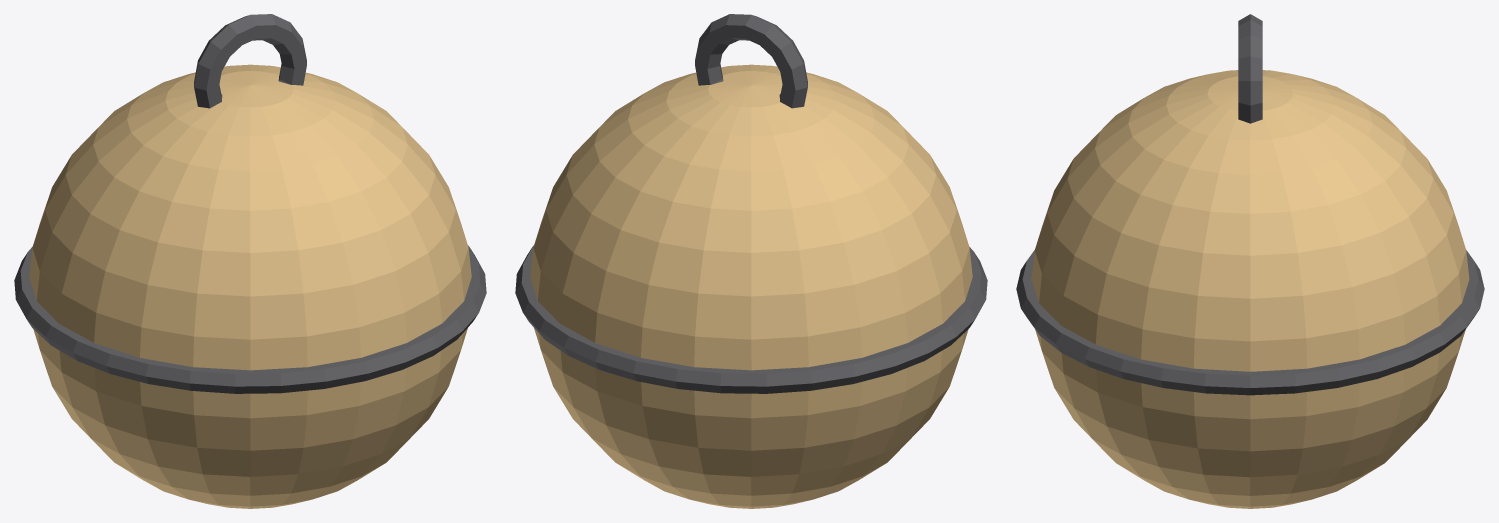
Rendered from Counterweight.fbx.
The picture shows the model from 3 angles, left to right: view 1: azimuth 30°, elevation 25°; view 2: azimuth 150°, elevation 25°; view 3: azimuth 270°, elevation 25°; orthographic projection.
Parts seen in each view (by area): view 1: Counterweight; view 2: Counterweight; view 3: Counterweight.
Part boxes in pixels (<box>): Counterweight: <box>14,14,486,508</box>; Counterweight: <box>515,14,987,508</box>; Counterweight: <box>1016,14,1484,508</box>.
Bounding box in the file's own units: 1.49 × 1.64 × 1.49.
